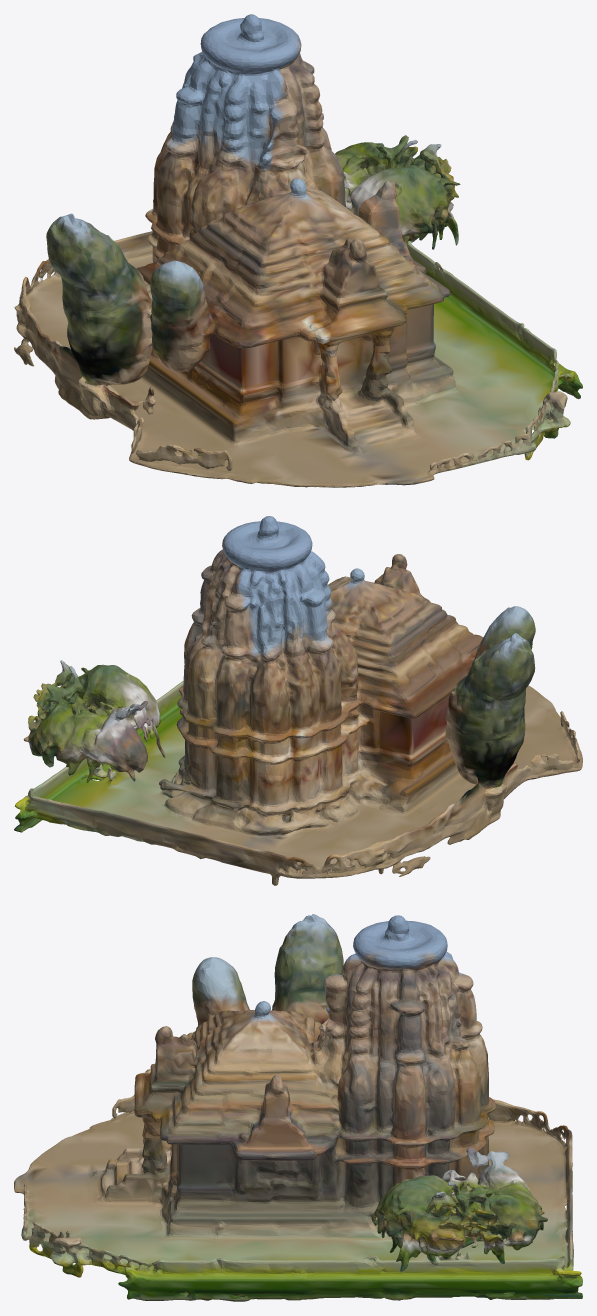
3 renders of one model, top to bottom at view 1: azimuth 30°, elevation 25°; view 2: azimuth 150°, elevation 25°; view 3: azimuth 270°, elevation 25°, orthographic. The views are drawn at different scales.
Visible parts, largest first — view 1: world; view 2: world; view 3: world.
Boxes of the visible parts, x1,y1,x2,y2 form: world: (14,14,582,487); world: (14,516,582,885); world: (14,914,582,1301).
Bounding box in the file's own units: 1.77 × 1.17 × 1.99.
